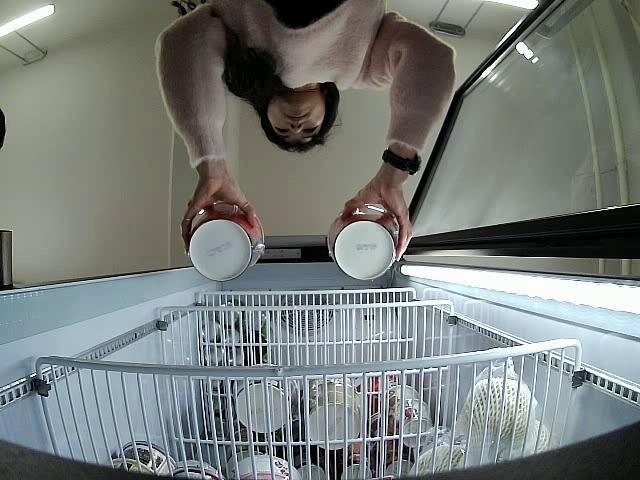01_ShinRamen_L: (186, 202, 267, 284), (324, 202, 402, 280)
